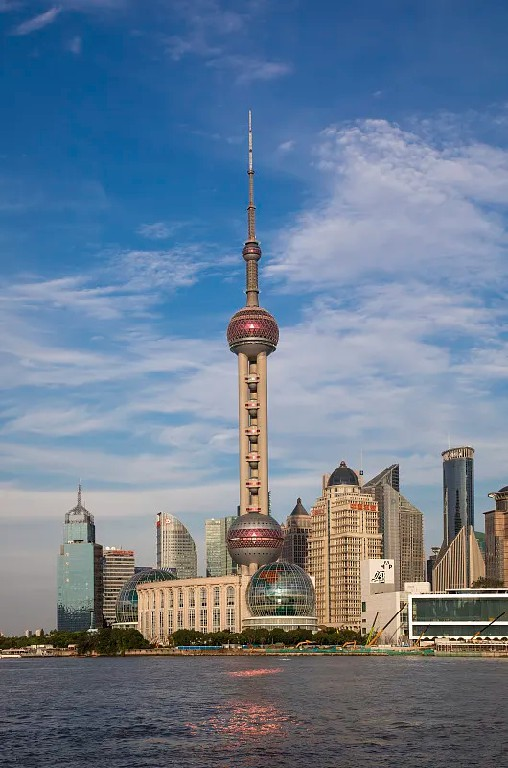Oriental: (227, 109, 283, 569)
